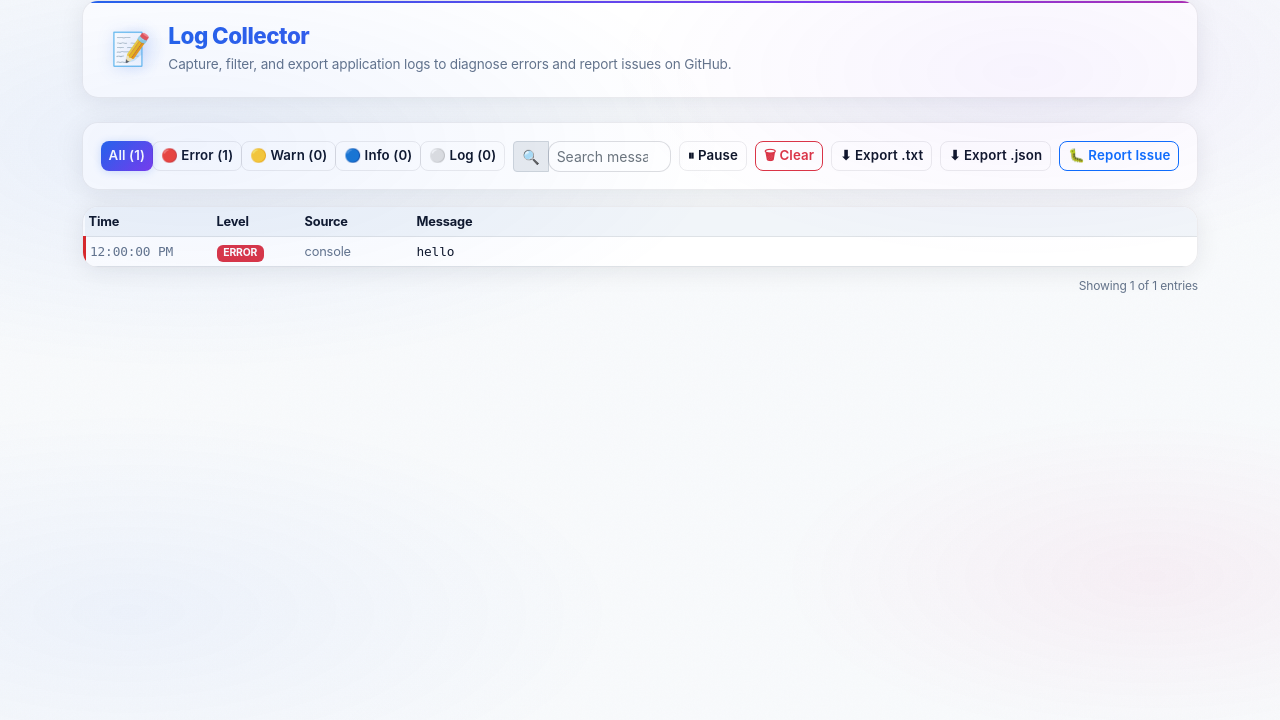
LogCollector Component › clears search when ✕ button is clicked
This screenshot has width=1280, height=720.
Type "hello" into the search field with placeholder "Search messages…" at [609, 156], box [548,141,671,172]
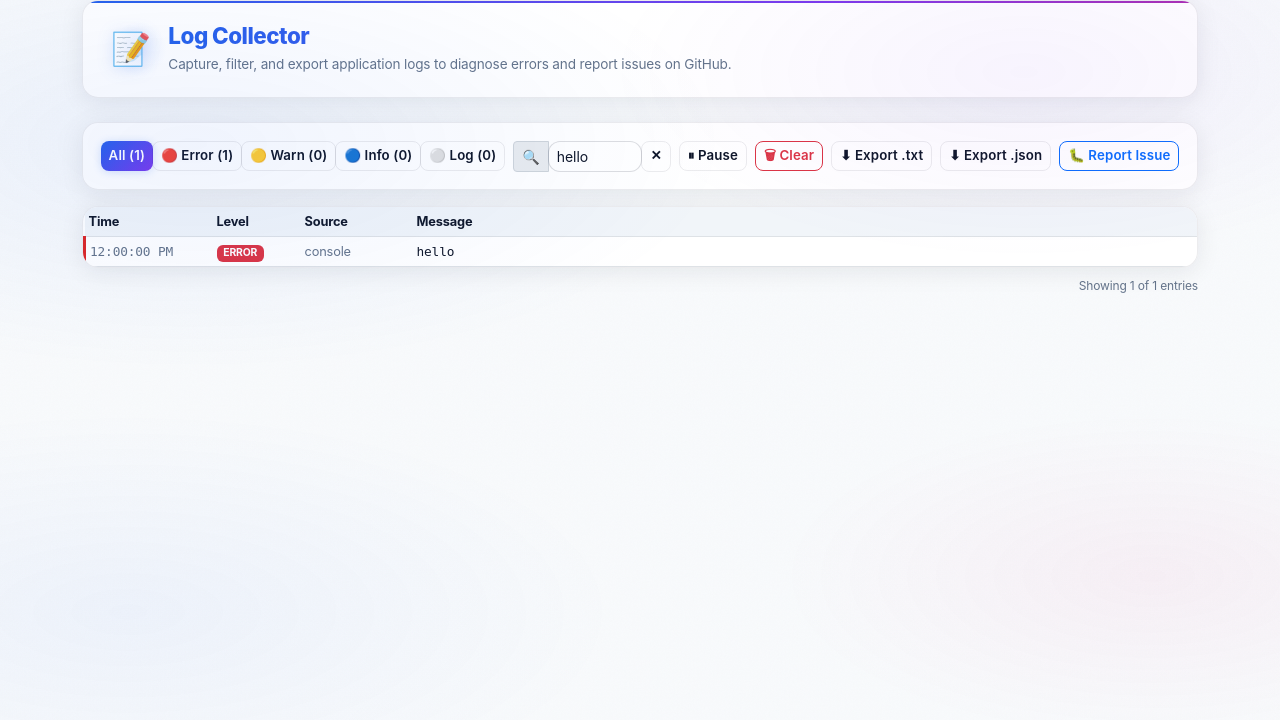
Click the button named "clear search" at [656, 156], box [641,141,671,172]
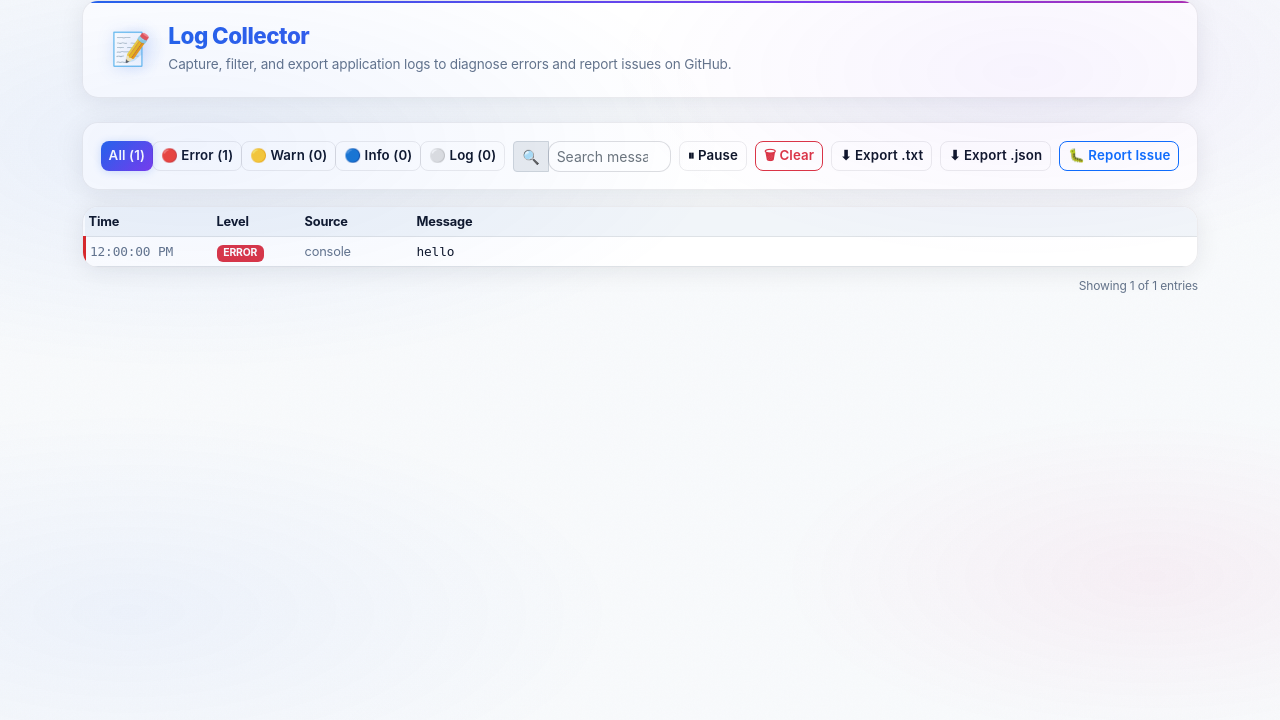
Result: the search field with placeholder "Search messages…" is empty at [548,141,671,172]
